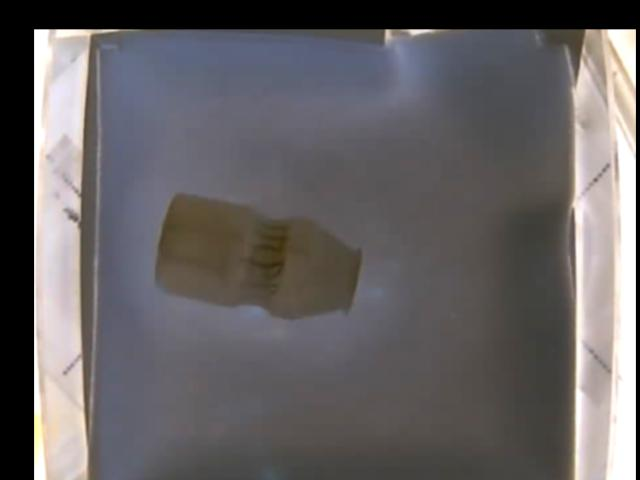Bottle: (158, 190, 359, 321)
